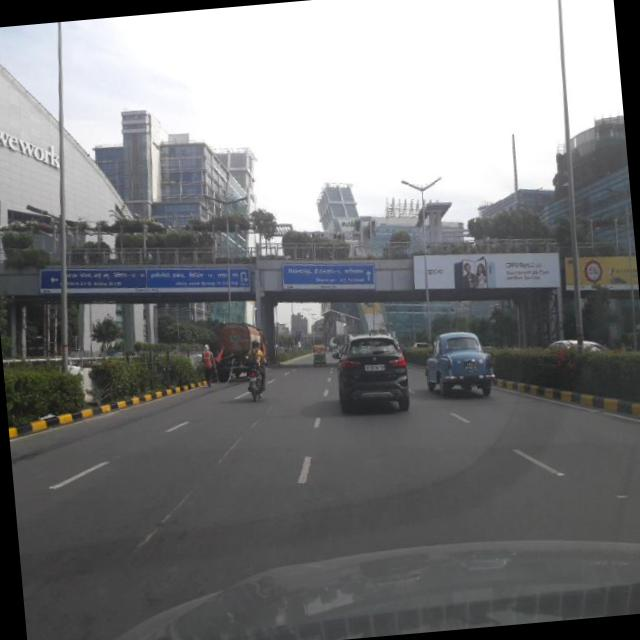pothole: (114, 482, 200, 560), (243, 402, 280, 429), (212, 436, 240, 470)
